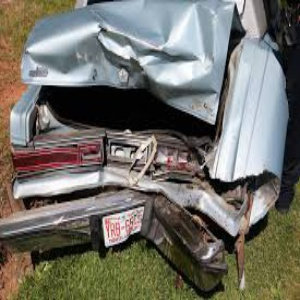bonnet: (30, 10, 223, 124)
bumper: (14, 169, 242, 261)
